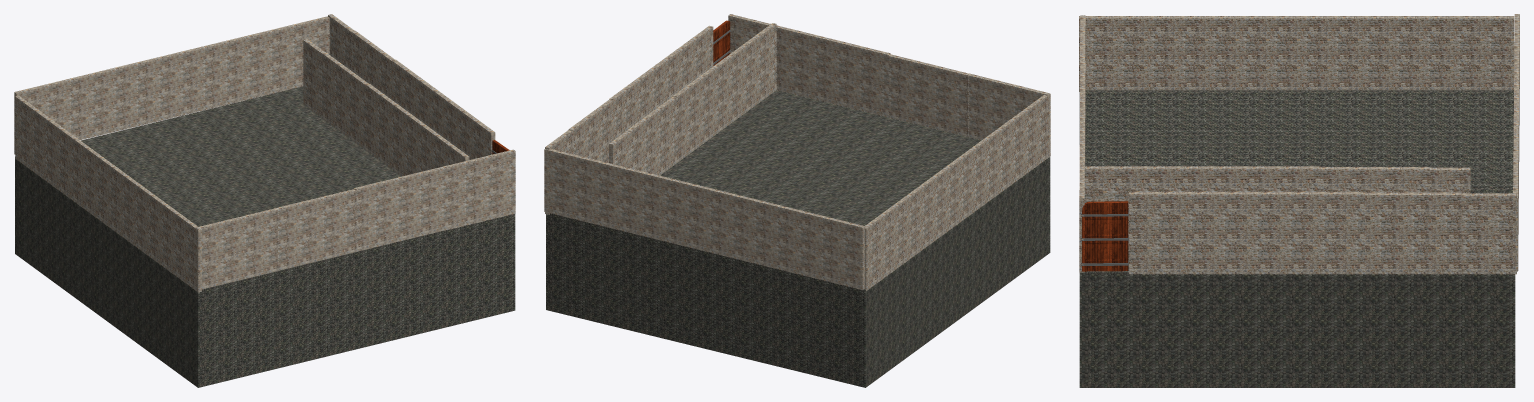
File: map_boss.obj
3 views of the same model, side by side, from view 1: azimuth 30°, elevation 25°; view 2: azimuth 150°, elevation 25°; view 3: azimuth 270°, elevation 25° (orthographic). The views are drawn at different scales.
Visible parts, largest first — view 1: FloorBox, Box001.001, Box001.008, Box001.005, Box001.006, Box001.000_Box001.009, Box001.007_Box001.010, Box001.002, Box001.009_Box001.011, Box001.003, Box001.010_Box001.012, Box001.004; view 2: FloorBox, Box001.001, Box001.008, Box001.005, Box001.007_Box001.010, Box001.006, Box001.002, Box001.009_Box001.011, Box001.000_Box001.009, Box001.003, Box001.010_Box001.012, DoorLeft (+1 smaller); view 3: FloorBox, Box001.008, Box001.002, Box001.003, Box001.007_Box001.010, Box001.004, DoorLeft, Box001.009_Box001.011, Box001.001, Box001.010_Box001.012, Box001.005.
Boxes of the visible parts, box(x1,y1,x2,y2) form: FloorBox: box(15, 86, 515, 387); Box001.001: box(14, 16, 329, 154); Box001.008: box(15, 95, 201, 292); Box001.005: box(354, 149, 515, 251); Box001.006: box(274, 189, 356, 270); Box001.000_Box001.009: box(196, 208, 278, 289); Box001.007_Box001.010: box(366, 84, 469, 176); Box001.002: box(392, 59, 495, 159); Box001.009_Box001.011: box(320, 51, 369, 152); Box001.003: box(351, 30, 400, 105); Box001.010_Box001.012: box(303, 39, 323, 116); Box001.004: box(328, 14, 354, 70); FloorBox: box(546, 90, 1050, 387); Box001.001: box(544, 148, 864, 289); Box001.008: box(864, 93, 1050, 290); Box001.005: box(728, 14, 890, 117); Box001.007_Box001.010: box(672, 23, 776, 160); Box001.006: box(888, 54, 969, 137); Box001.002: box(609, 25, 713, 133); Box001.009_Box001.011: box(626, 95, 679, 175); Box001.000_Box001.009: box(969, 73, 1049, 140); Box001.003: box(568, 94, 621, 162); Box001.010_Box001.012: box(609, 131, 630, 167); DoorLeft: box(713, 20, 730, 65); FloorBox: box(1079, 90, 1515, 387); Box001.008: box(1079, 16, 1514, 91); Box001.002: box(1129, 192, 1364, 274); Box001.003: box(1365, 192, 1461, 274); Box001.007_Box001.010: box(1084, 166, 1320, 246); Box001.004: box(1461, 193, 1516, 274); DoorLeft: box(1081, 201, 1128, 271); Box001.009_Box001.011: box(1320, 167, 1429, 192); Box001.001: box(1513, 14, 1519, 271); Box001.010_Box001.012: box(1412, 167, 1470, 193); Box001.005: box(1079, 105, 1085, 272).
Size of the model in its own units: 514 by 252 by 518.
